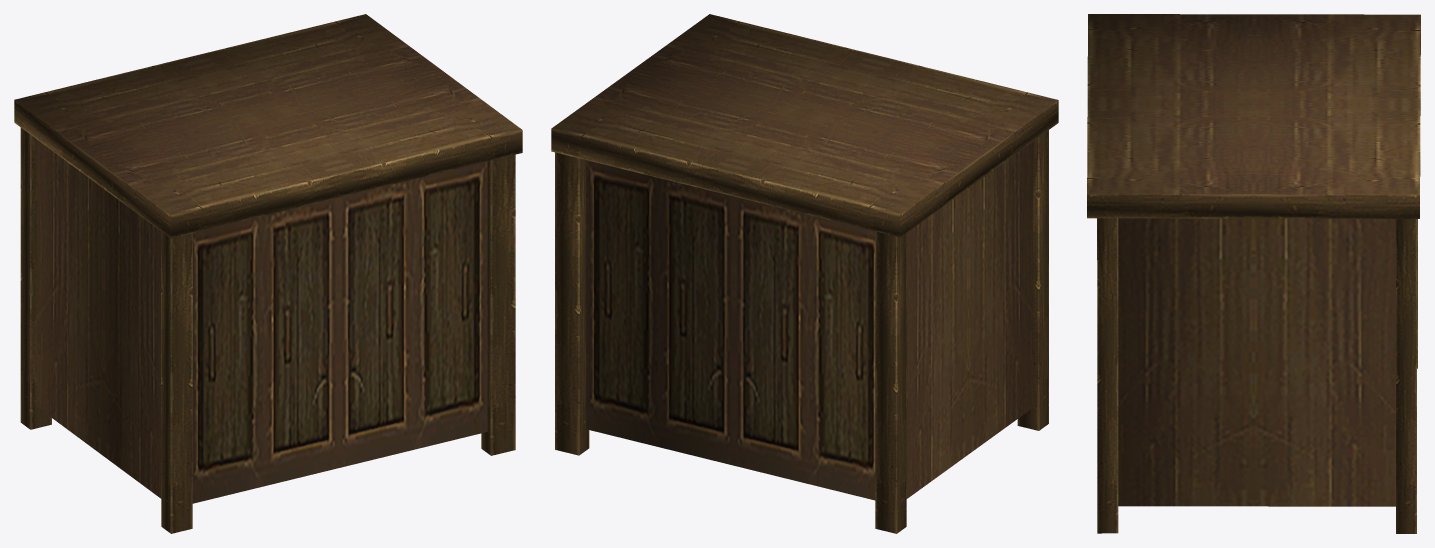
File: Sark_1.FBX
The picture shows the model from 3 angles, left to right: view 1: azimuth 30°, elevation 25°; view 2: azimuth 150°, elevation 25°; view 3: azimuth 270°, elevation 25°; orthographic projection. The views are drawn at different scales.
Visible parts, largest first — view 1: Sark_1; view 2: Sark_1; view 3: Sark_1.
Boxes of the visible parts, x1,y1,x2,y2 form: Sark_1: [14, 14, 522, 533]; Sark_1: [551, 14, 1058, 533]; Sark_1: [1087, 14, 1420, 533].
Size of the model in its own units: 0.8846 by 0.7757 by 0.6885.
